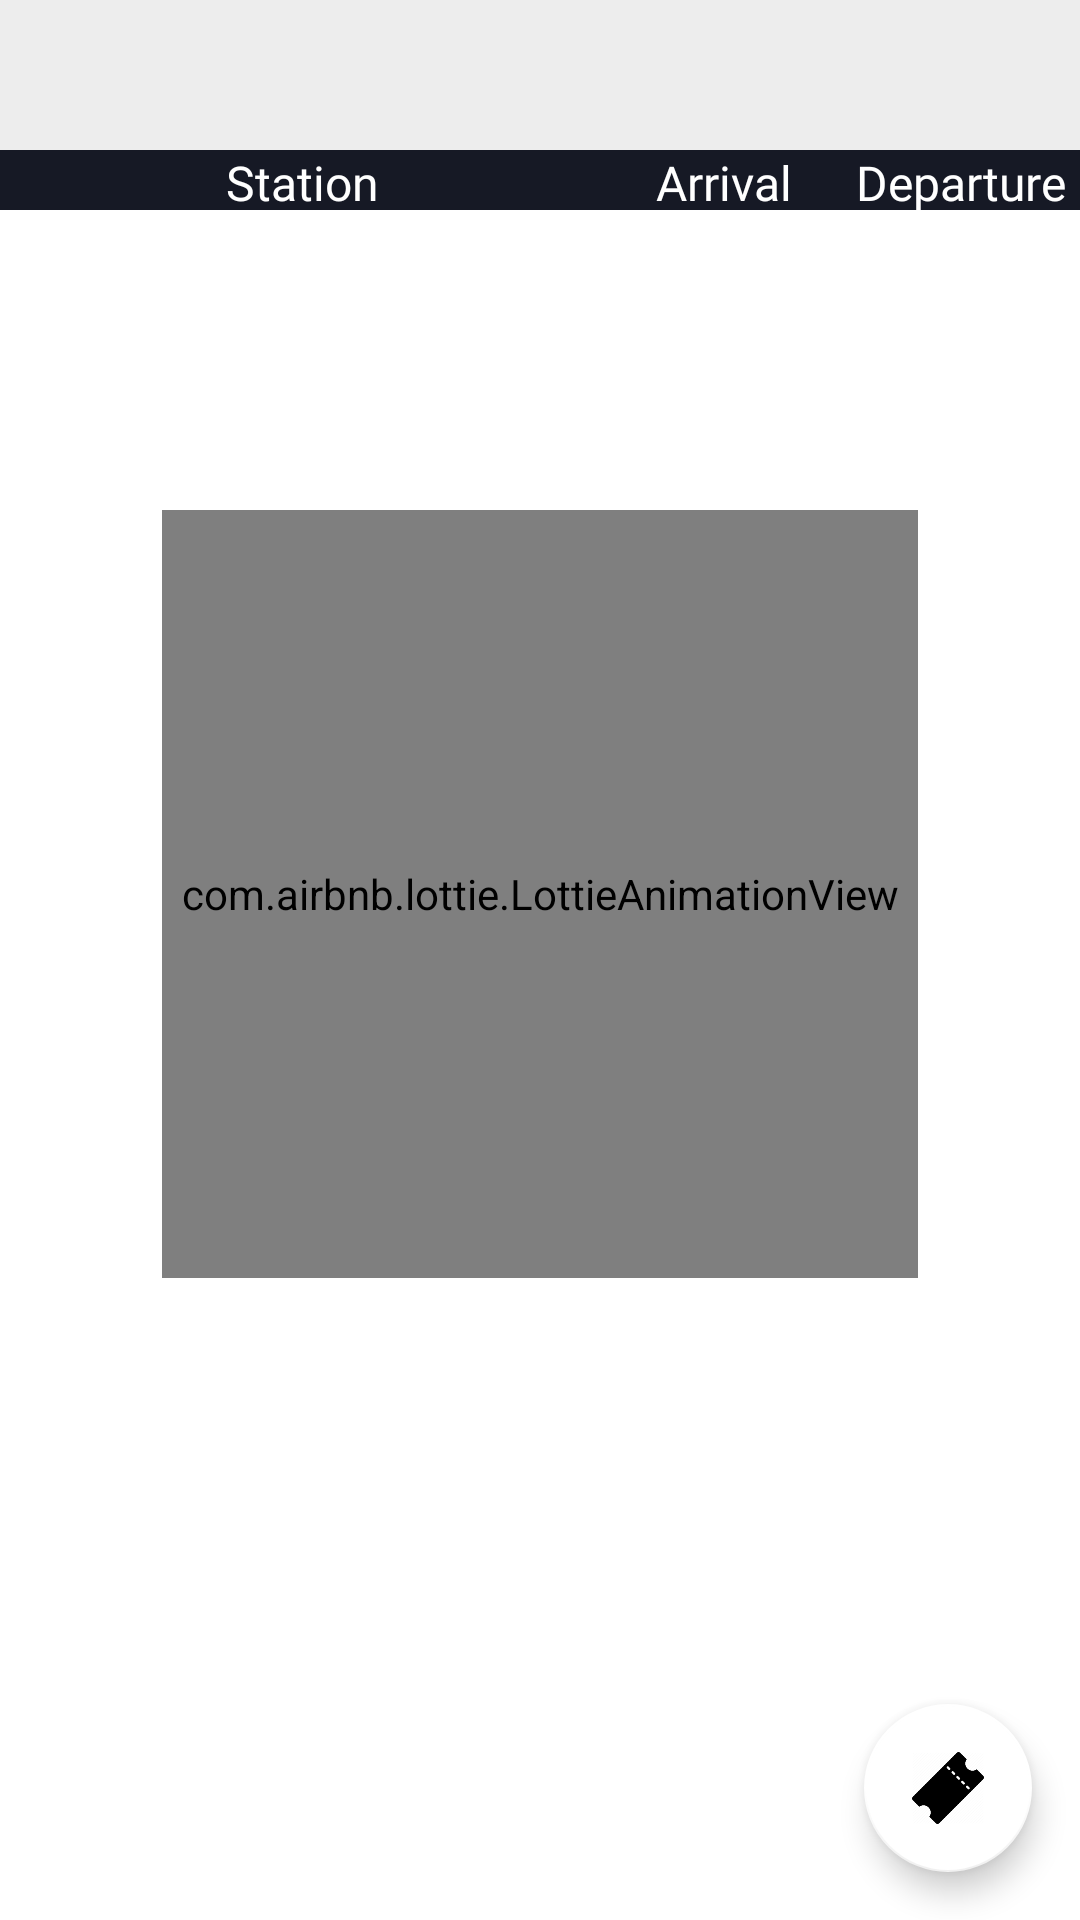

Point at icon controls on the screen. Image size 1080 × 1920, points as point (x, y).
fare: point (926, 1788)
